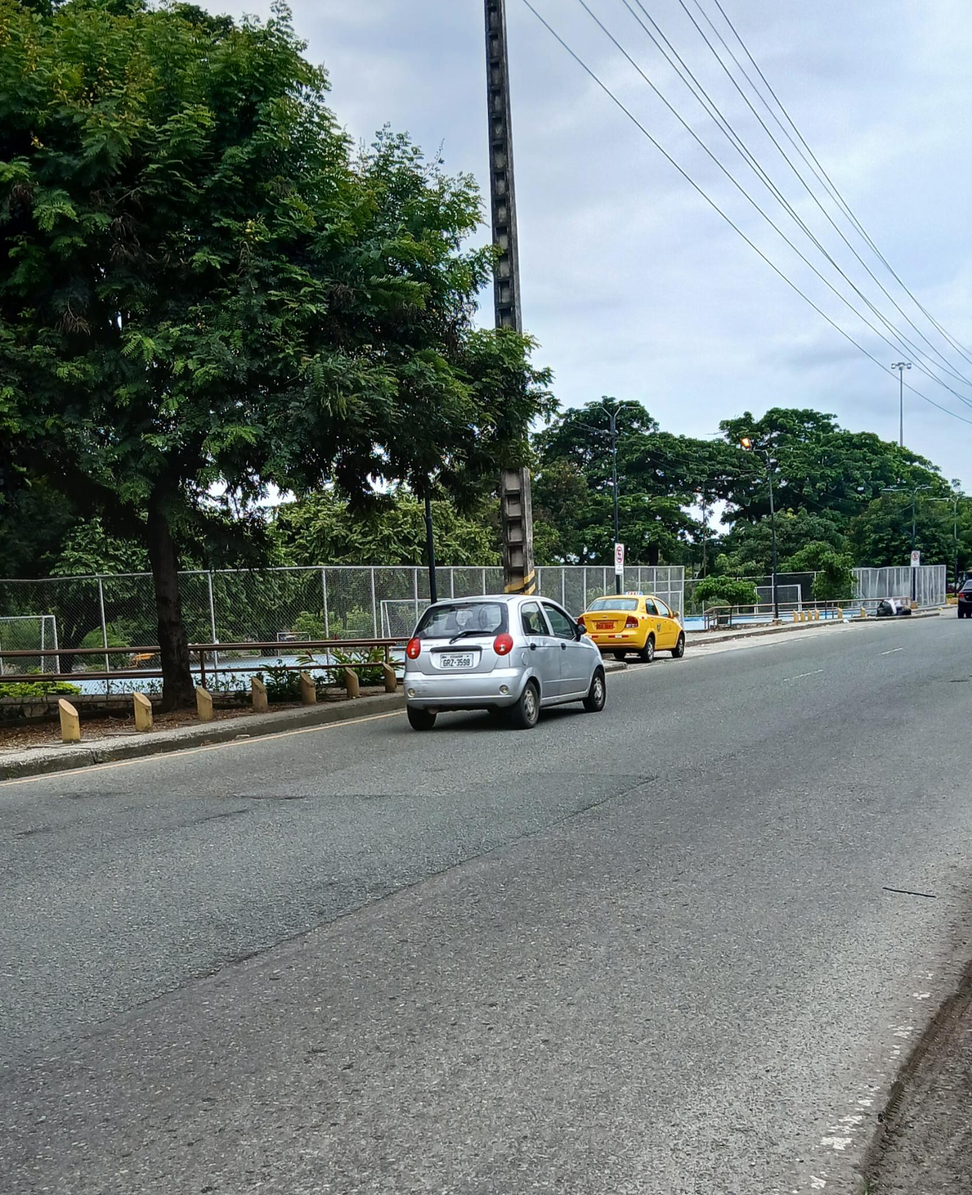license_plate: (435, 652, 476, 668), (594, 622, 615, 630)
